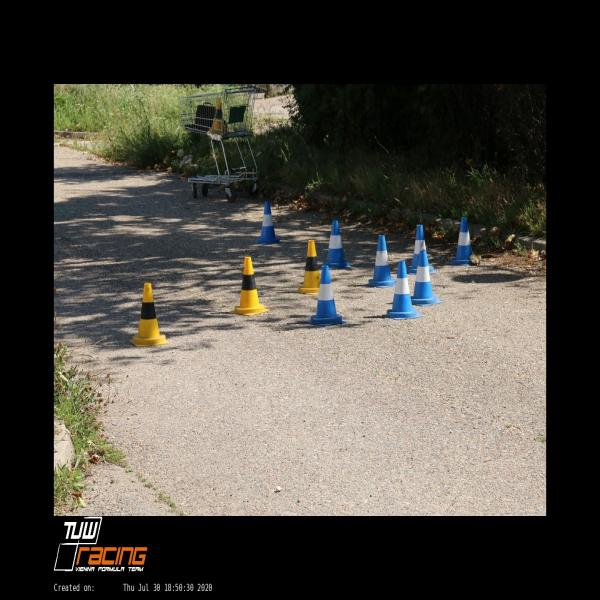blue_cone: (306, 266, 348, 326), (382, 261, 422, 319), (406, 250, 442, 306), (447, 217, 484, 266), (365, 235, 399, 288), (404, 225, 436, 274), (320, 221, 351, 268), (252, 201, 283, 244)
yellow_cone: (129, 283, 169, 347), (228, 256, 270, 316), (293, 240, 330, 295)
